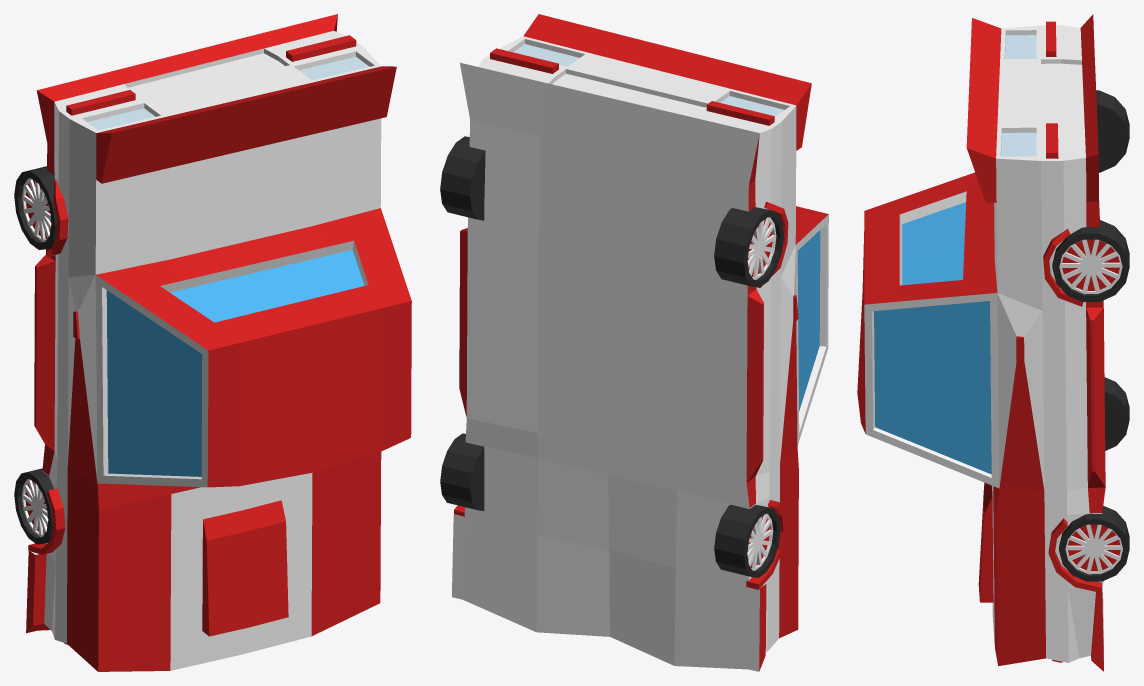
File: racing_car.obj
The picture shows the model from 3 angles, left to right: view 1: azimuth 30°, elevation 25°; view 2: azimuth 150°, elevation 25°; view 3: azimuth 270°, elevation 25°; orthographic projection. The views are drawn at different scales.
Parts seen in each view (by area): view 1: body_ID56, wheel.1_ID84, wheel1.1_ID93, backlight_ID75, front_fender_ID47, rear_fender_ID38; view 2: body_ID56, wheel.1_ID84, wheel1.1_ID93, backlight_ID75, front_fender_ID47; view 3: body_ID56, wheel.1_ID84, wheel1.1_ID93, backlight_ID75, front_fender_ID47, rear_fender_ID38.
Part boxes in pixels (x1=…): body_ID56: x1=26, y1=14, x2=411, y2=671; wheel.1_ID84: x1=14, y1=166, x2=57, y2=249; wheel1.1_ID93: x1=14, y1=468, x2=53, y2=544; backlight_ID75: x1=87, y1=56, x2=369, y2=130; front_fender_ID47: x1=28, y1=488, x2=65, y2=554; rear_fender_ID38: x1=47, y1=180, x2=68, y2=257; body_ID56: x1=452, y1=14, x2=828, y2=671; wheel.1_ID84: x1=440, y1=136, x2=783, y2=287; wheel1.1_ID93: x1=440, y1=433, x2=780, y2=577; backlight_ID75: x1=513, y1=44, x2=784, y2=116; front_fender_ID47: x1=454, y1=500, x2=786, y2=589; body_ID56: x1=857, y1=14, x2=1105, y2=671; wheel.1_ID84: x1=1052, y1=90, x2=1129, y2=301; wheel1.1_ID93: x1=1059, y1=377, x2=1129, y2=581; backlight_ID75: x1=1001, y1=35, x2=1036, y2=156; front_fender_ID47: x1=1048, y1=518, x2=1101, y2=591; rear_fender_ID38: x1=1043, y1=228, x2=1083, y2=306.
Bounding box in the file's own units: 1.38 × 2.36 × 1.1.
